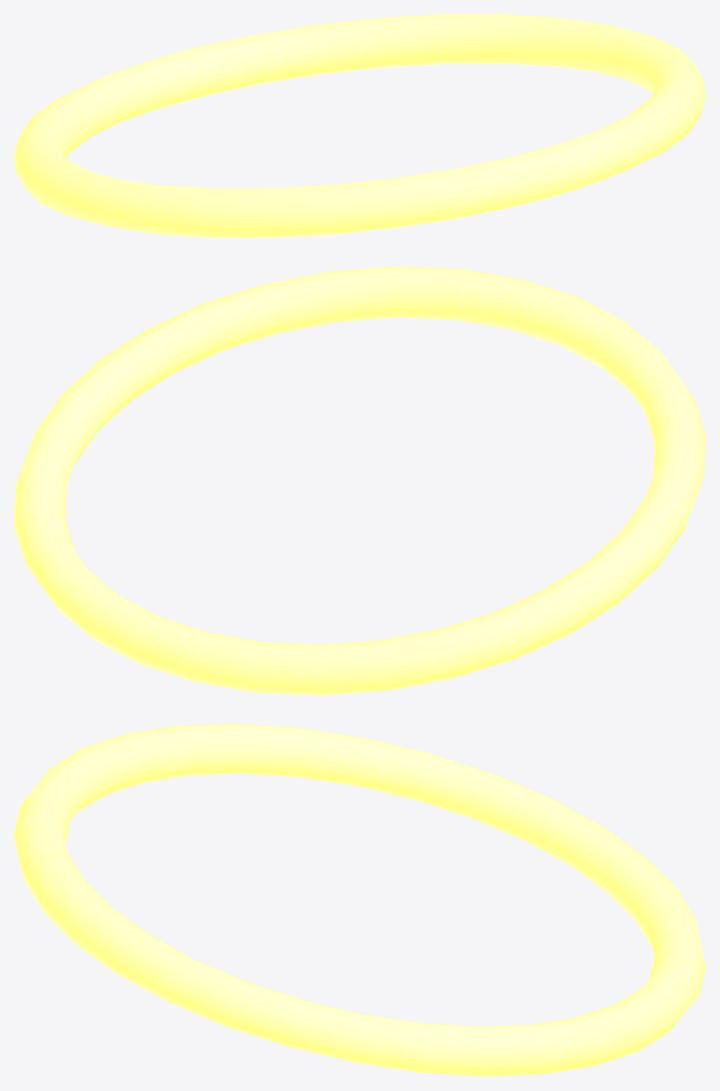
The model's file is halo.glb.
3 views of the same model, one above another, from view 1: azimuth 30°, elevation 25°; view 2: azimuth 150°, elevation 25°; view 3: azimuth 270°, elevation 25° (orthographic).
Visible parts, largest first — view 1: halo; view 2: halo; view 3: halo.
Boxes of the visible parts, x1=… form: halo: x1=14, y1=14, x2=705, y2=238; halo: x1=14, y1=267, x2=705, y2=695; halo: x1=14, y1=724, x2=705, y2=1076.
Bounding box in the file's own units: 0.2161 × 0.0573 × 0.2113.
